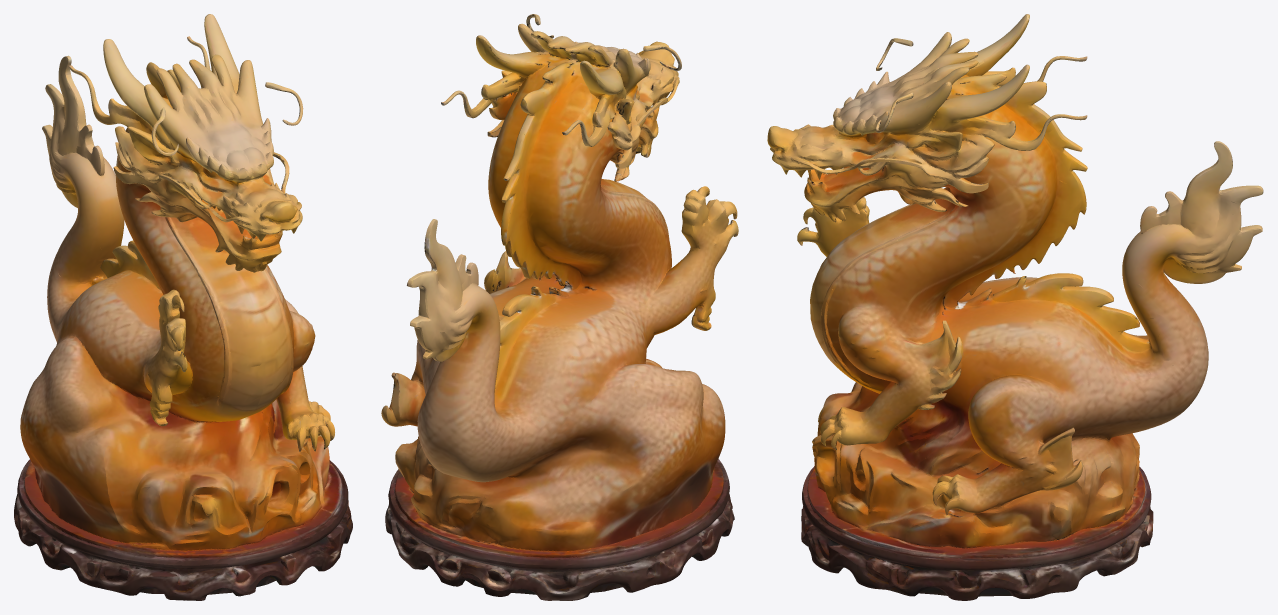
The model's file is knight.glb.
3 renders of one model, left to right at view 1: azimuth 30°, elevation 25°; view 2: azimuth 150°, elevation 25°; view 3: azimuth 270°, elevation 25°, orthographic. The views are drawn at different scales.
Visible parts, largest first — view 1: model; view 2: model; view 3: model.
Boxes of the visible parts, bbox=[...] form: model: bbox=[14, 14, 352, 600]; model: bbox=[381, 14, 738, 600]; model: bbox=[767, 14, 1263, 600].
Bounding box in the file's own units: 1.14 × 1.9 × 1.7.
1 material, 1 textured.
